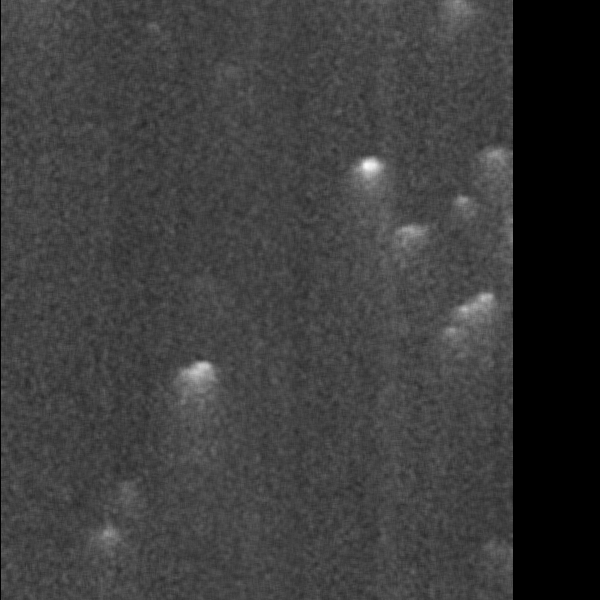spark: (170, 395, 211, 419)
